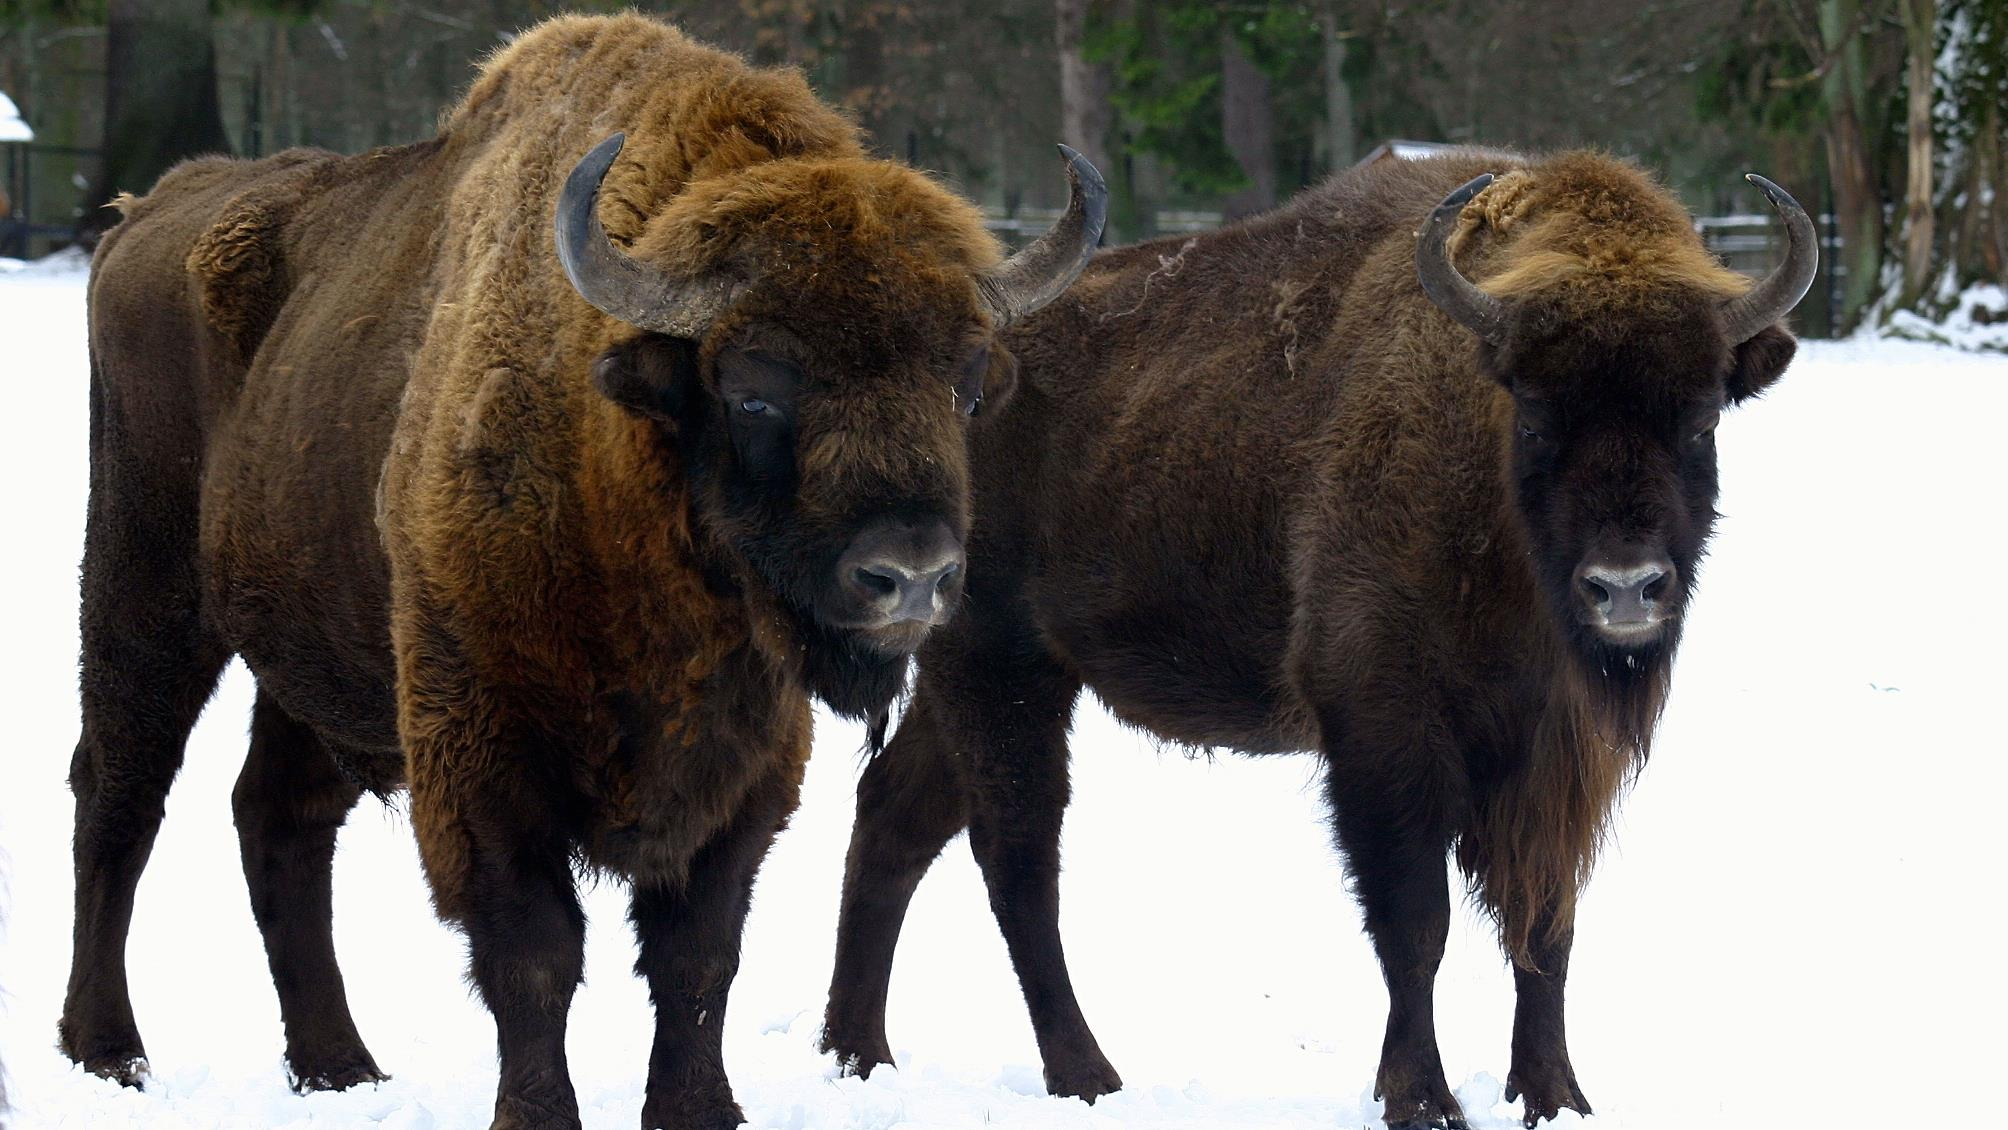zubr: (66, 1, 1105, 1116), (958, 1, 1967, 1109)
